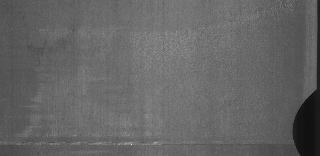welding line: (1, 139, 303, 149)
